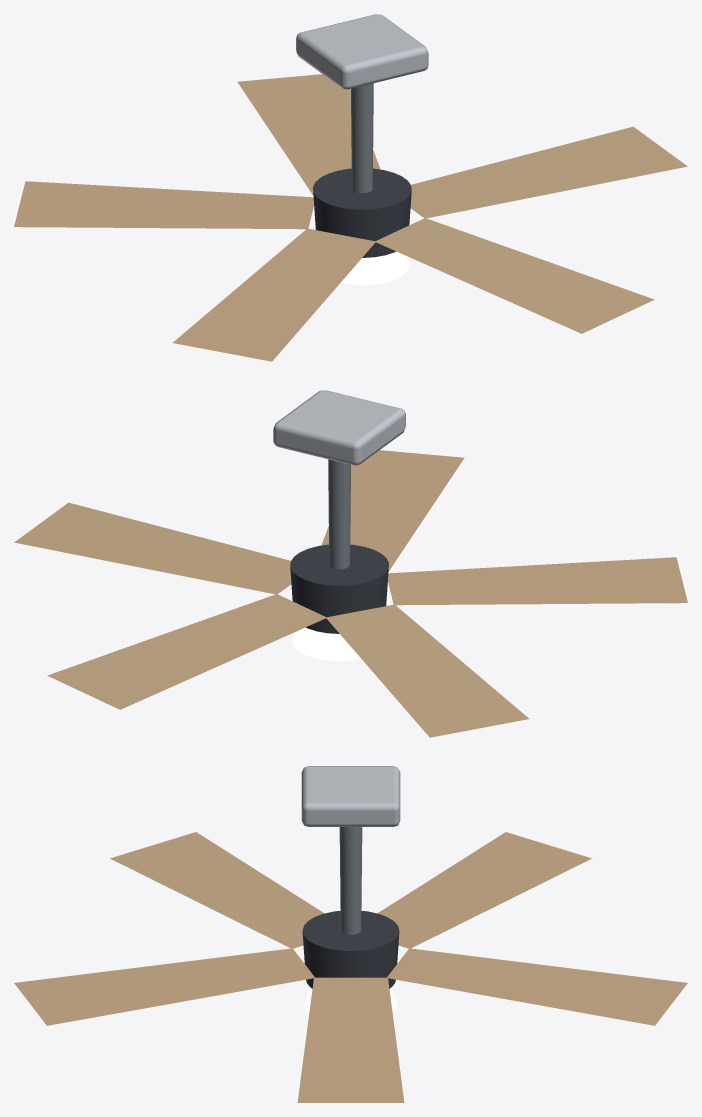
Rendered from ceiling_fan01.glb.
3 renders of one model, top to bottom at view 1: azimuth 30°, elevation 25°; view 2: azimuth 150°, elevation 25°; view 3: azimuth 270°, elevation 25°, orthographic. The views are drawn at different scales.
Parts seen in each view (by area): view 1: blades, canopy, motor, rod, light; view 2: blades, canopy, motor, rod, light; view 3: blades, canopy, motor, rod.
Part boxes in pixels (x1,y1,x2,y2): blades: (14,74,687,361); canopy: (296,14,428,89); motor: (313,168,411,257); rod: (351,83,373,193); light: (341,251,409,284); blades: (14,450,687,737); canopy: (273,390,405,465); motor: (290,544,388,633); rod: (328,459,350,569); light: (292,627,360,660); blades: (14,832,687,1102); canopy: (301,766,400,826); motor: (302,910,399,988); rod: (339,827,362,934).
Bounding box in the file's own units: 1.56 × 0.5925 × 1.64.
